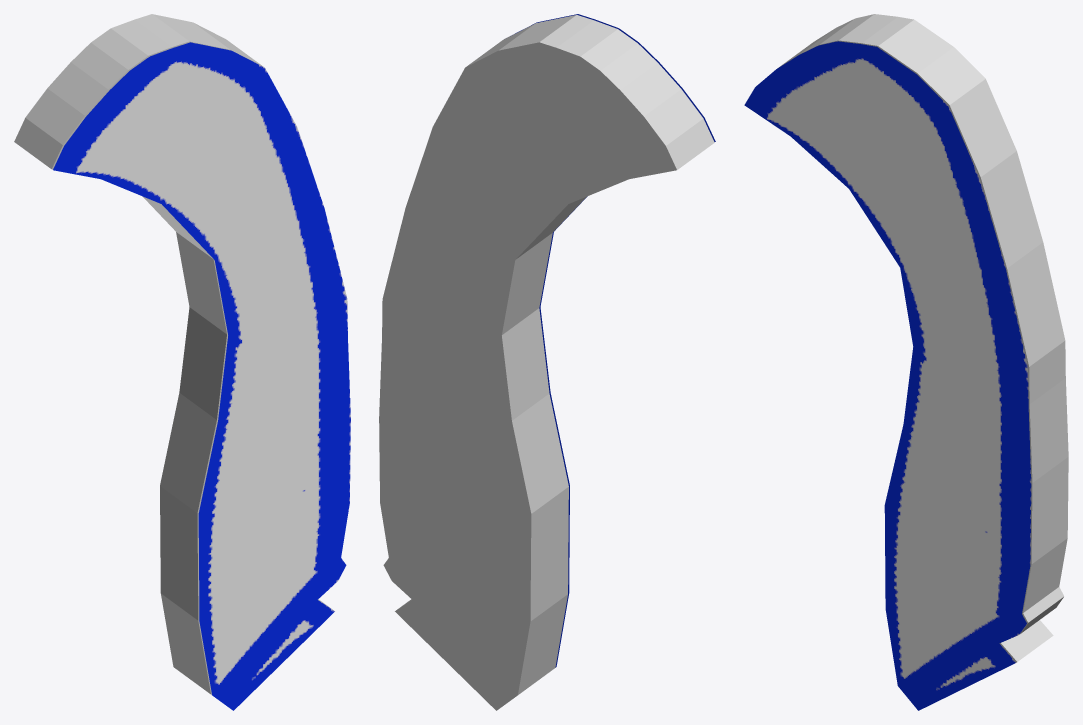
3 renders of one model, left to right at view 1: azimuth 30°, elevation 25°; view 2: azimuth 150°, elevation 25°; view 3: azimuth 330°, elevation 25°, orthographic. The views are drawn at different scales.
Visible parts, largest first — view 1: In2_1, In2_0; view 2: In2_0, In2_1; view 3: In2_1, In2_0.
Boxes of the visible parts, x1,y1,x2,y2 form: In2_1: (53,42,350,710); In2_0: (14,14,332,694); In2_0: (379,15,714,710); In2_1: (504,14,715,667); In2_1: (744,41,1031,710); In2_0: (778,14,1068,662).
Bounding box in the file's own units: 2.29 × 4.98 × 0.515.
2 materials, 1 textured.
